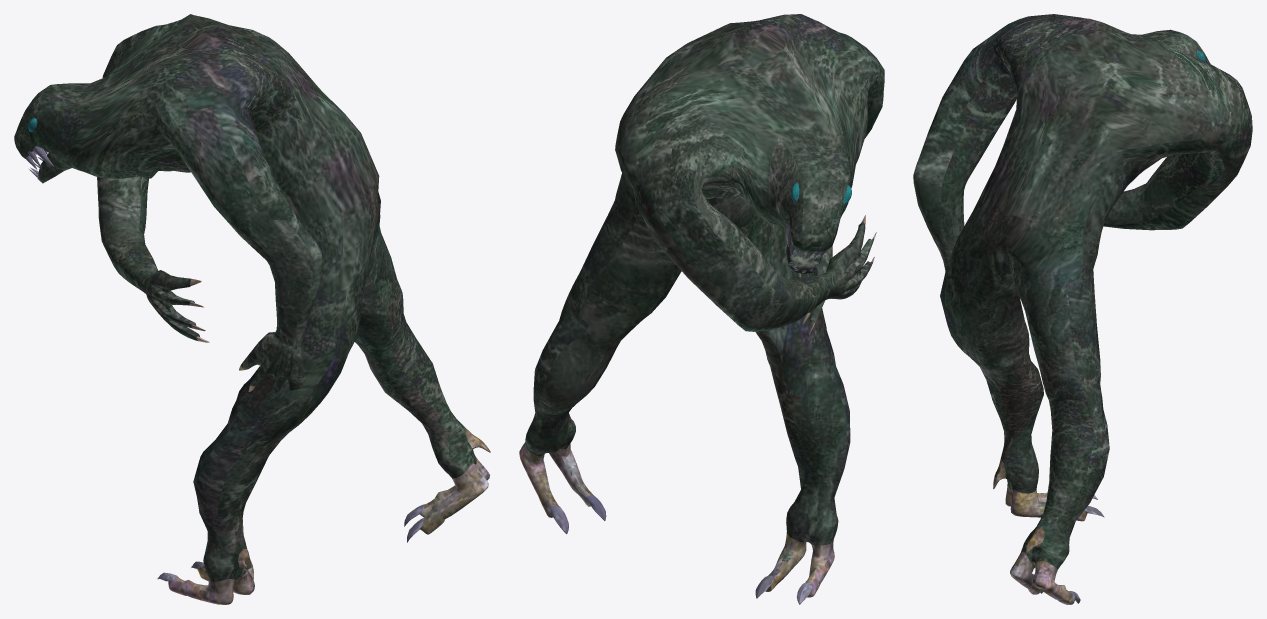
Rendered from Aranar.0008.obj.
3 renders of one model, left to right at view 1: azimuth 30°, elevation 25°; view 2: azimuth 150°, elevation 25°; view 3: azimuth 270°, elevation 25°, orthographic. The views are drawn at different scales.
Parts seen in each view (by area): view 1: polySurface28; view 2: polySurface28; view 3: polySurface28.
Part boxes in pixels (bbox=[...]): polySurface28: bbox=[14, 14, 490, 604]; polySurface28: bbox=[519, 14, 884, 604]; polySurface28: bbox=[913, 14, 1252, 604].
Size of the model in its own units: 1.52 by 2.02 by 1.24.
4 materials, 4 textured.
